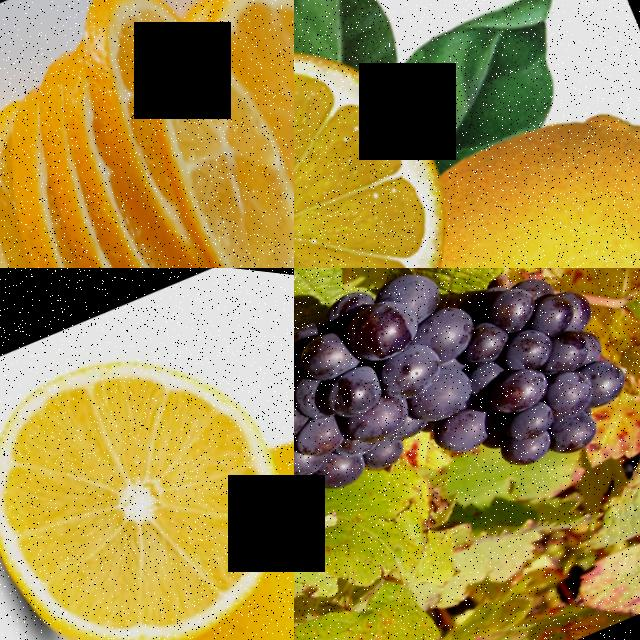grapes: (294, 268, 640, 614)
lemon: (0, 296, 294, 640), (294, 0, 500, 268), (99, 0, 294, 268), (412, 55, 640, 268), (184, 0, 294, 268)
